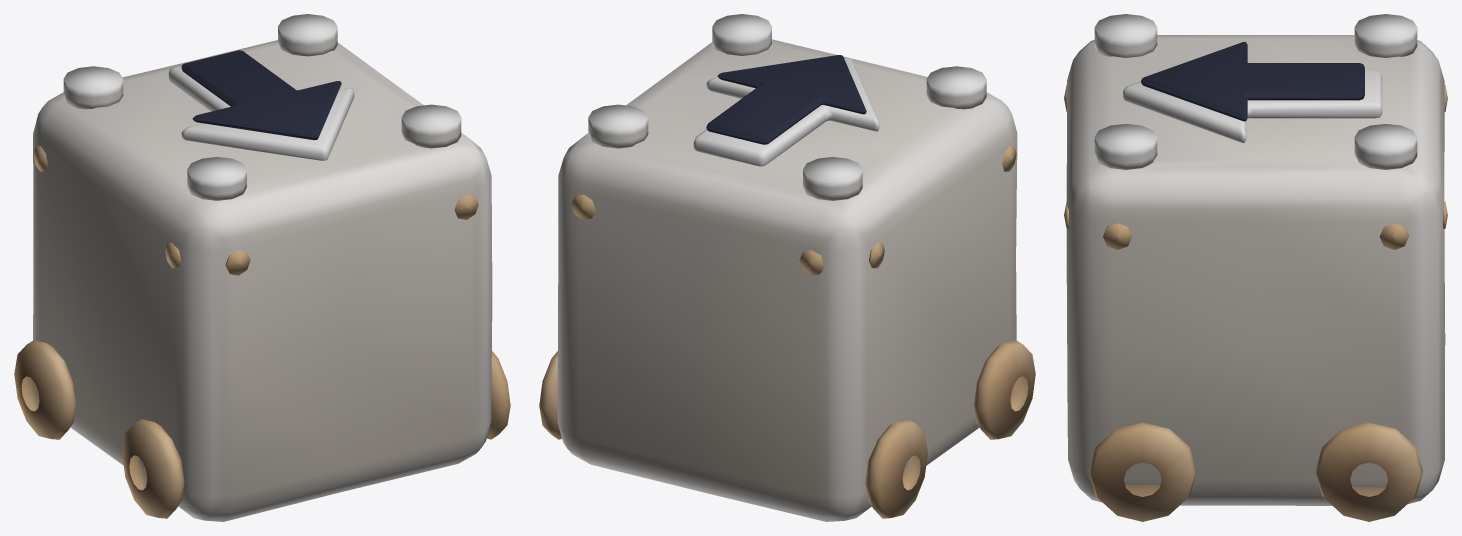
The model's file is pastel_hi.glb.
The picture shows the model from 3 angles, left to right: view 1: azimuth 30°, elevation 25°; view 2: azimuth 150°, elevation 25°; view 3: azimuth 270°, elevation 25°; orthographic projection. The views are drawn at different scales.
Visible parts, largest first — view 1: pastel_hi; view 2: pastel_hi; view 3: pastel_hi.
Boxes of the visible parts, x1,y1,x2,y2 form: pastel_hi: (14,14,510,521); pastel_hi: (539,14,1035,521); pastel_hi: (1064,14,1447,521).
Size of the model in its own units: 1.03 by 0.962 by 0.916.
